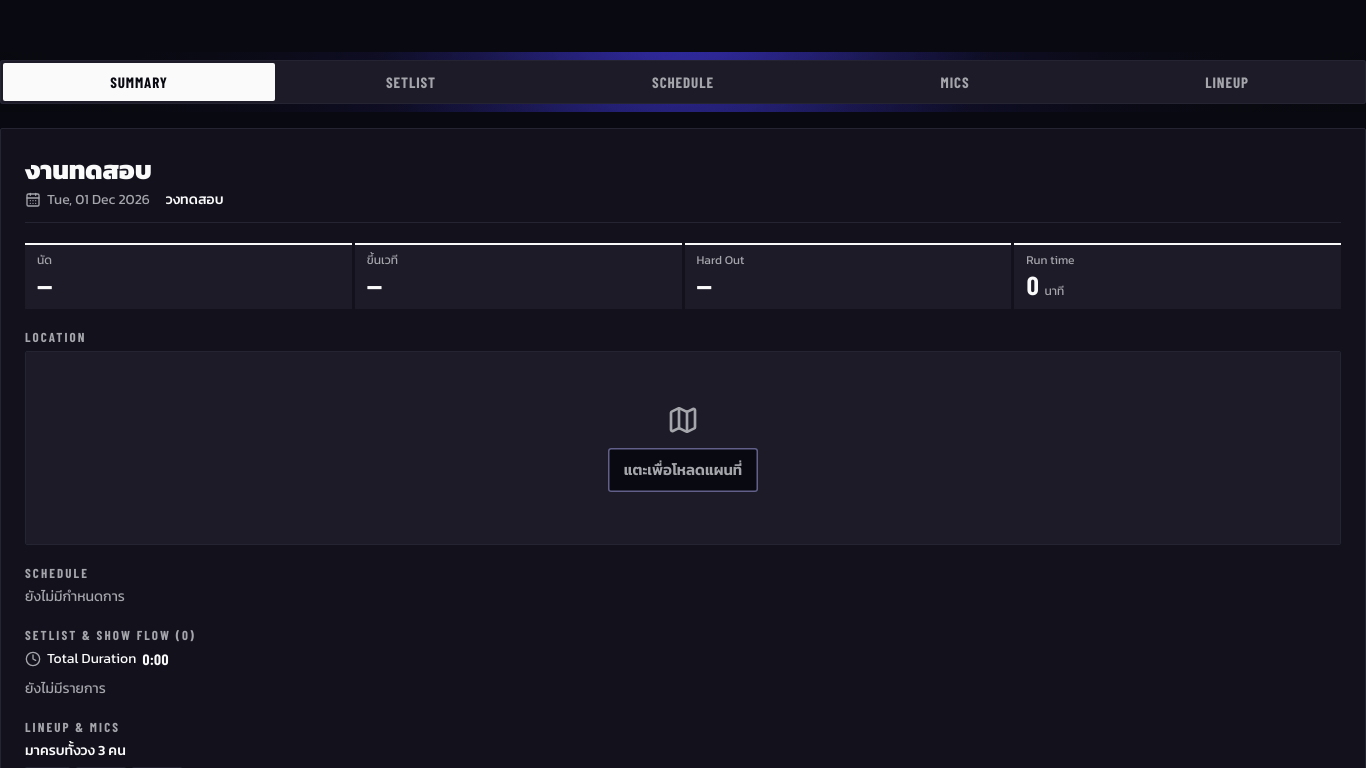
it: EventWorkspace · the live lineup and the page's own list › follows the server's lineup when it changes while the Lineup tab is not the active one
Click the tab "Mics": [955, 82] box x1=819 y1=63 x2=1091 y2=101
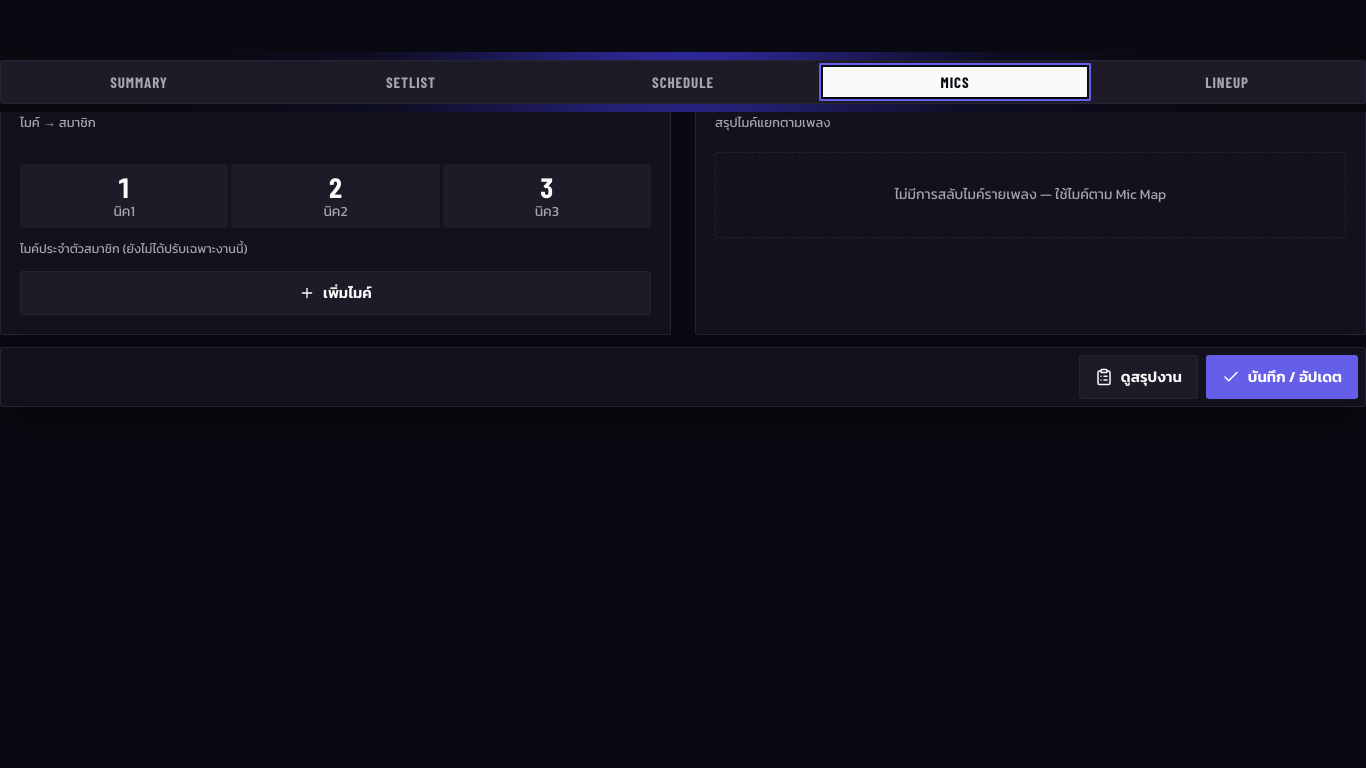
Expected: the text "Mic Map" is shown, x1=20 y1=84 x2=106 y2=106
